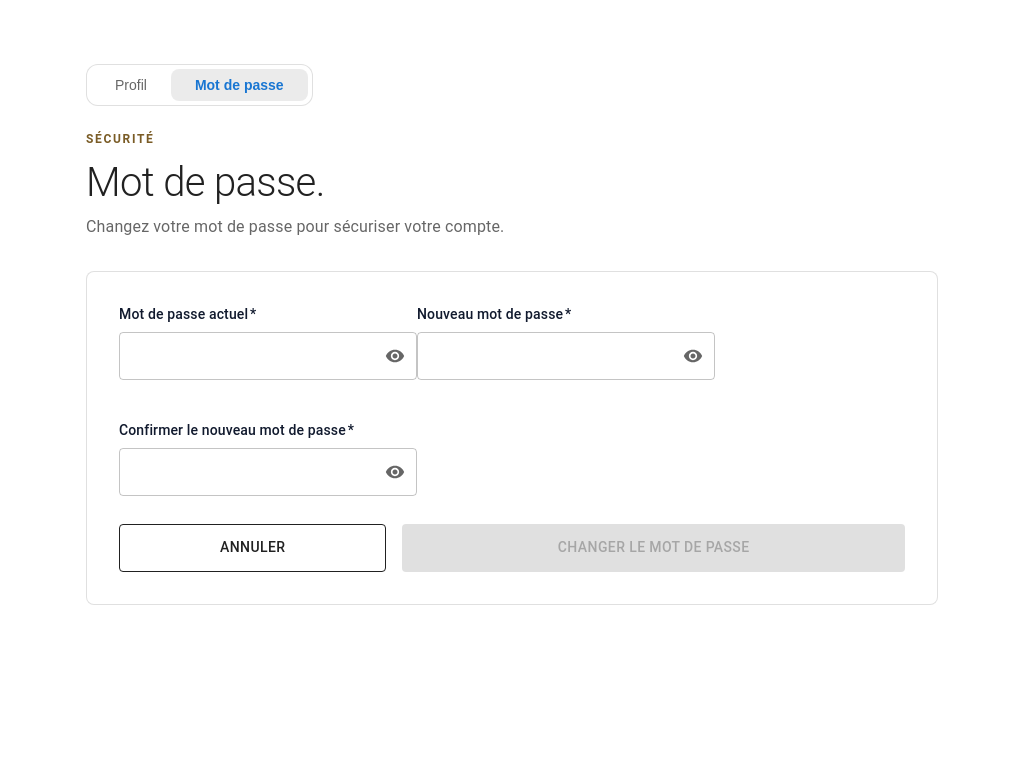
Test: /settings/password — redirection après succès › NE redirige PAS si les deux mots de passe ne correspondent pas
Type "Ancien123!" into the password field labelled "Mot de passe actuel *".
click(243, 356); type("Ancien123!")  # box [119,332,367,380]
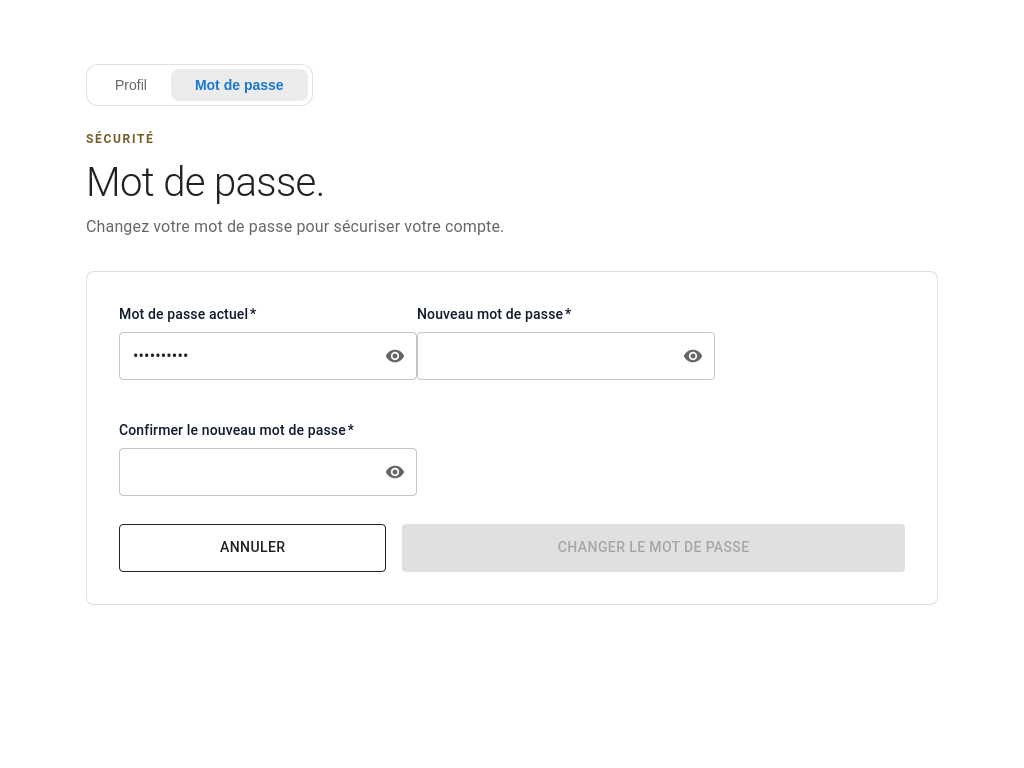
Type "Nouveau456!" into the password field labelled "Nouveau mot de passe *".
click(541, 356); type("Nouveau456!")  # box [417,332,665,380]
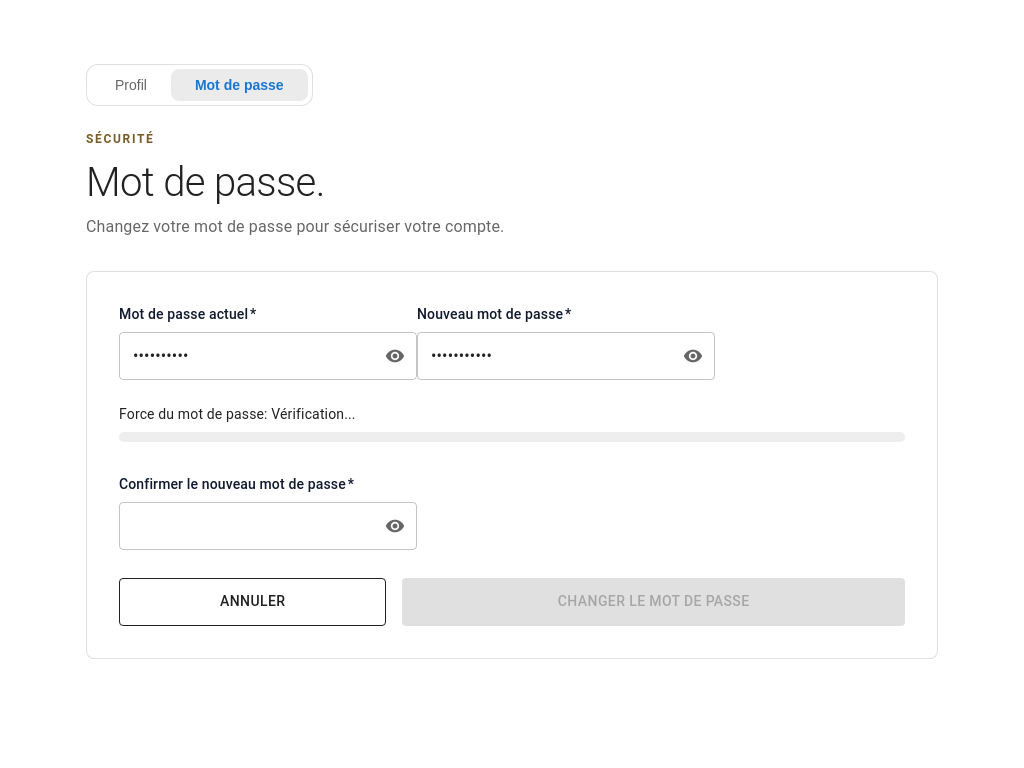
Type "Different789!" into the password field labelled "Confirmer le nouveau mot de passe *".
click(243, 526); type("Different789!")  # box [119,502,367,550]
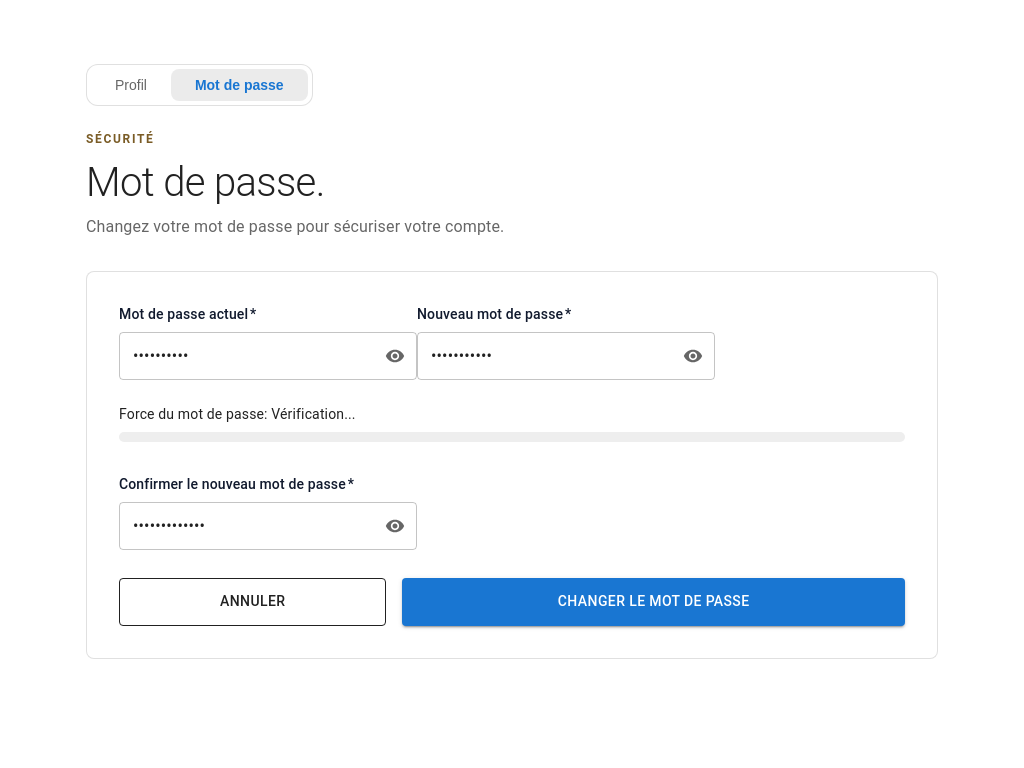
Click the button "Changer le mot de passe".
click(654, 602)  # box [402,578,905,626]
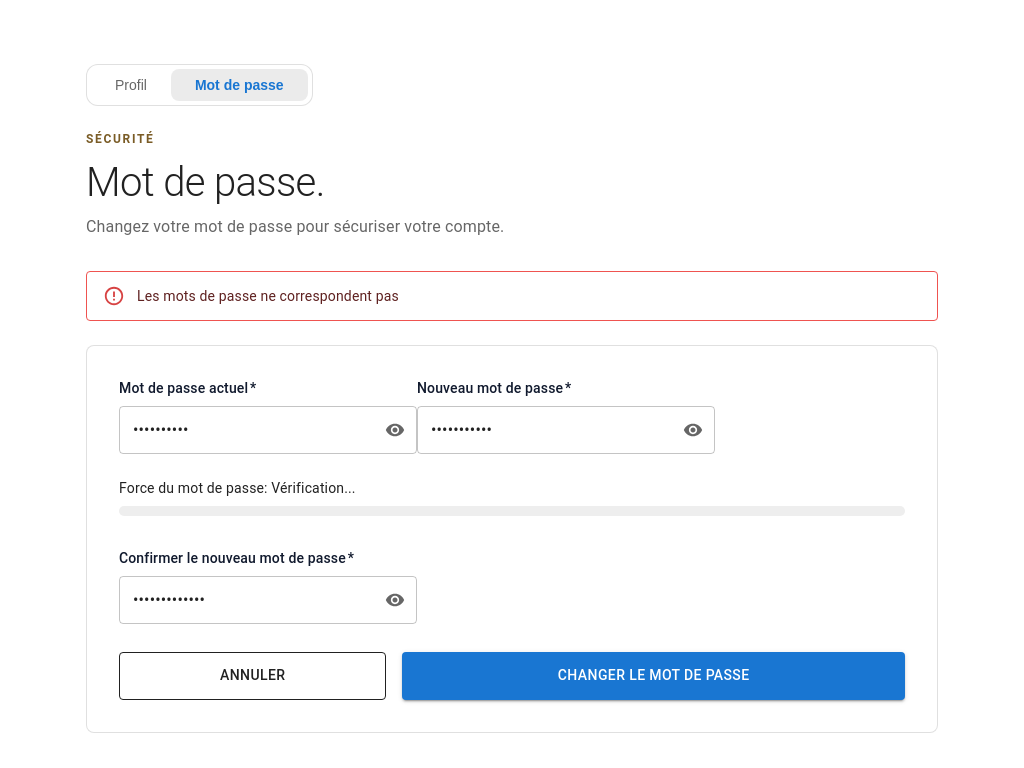
Now the text "Les mots de passe ne correspondent pas" is shown, box [137,288,399,304]
